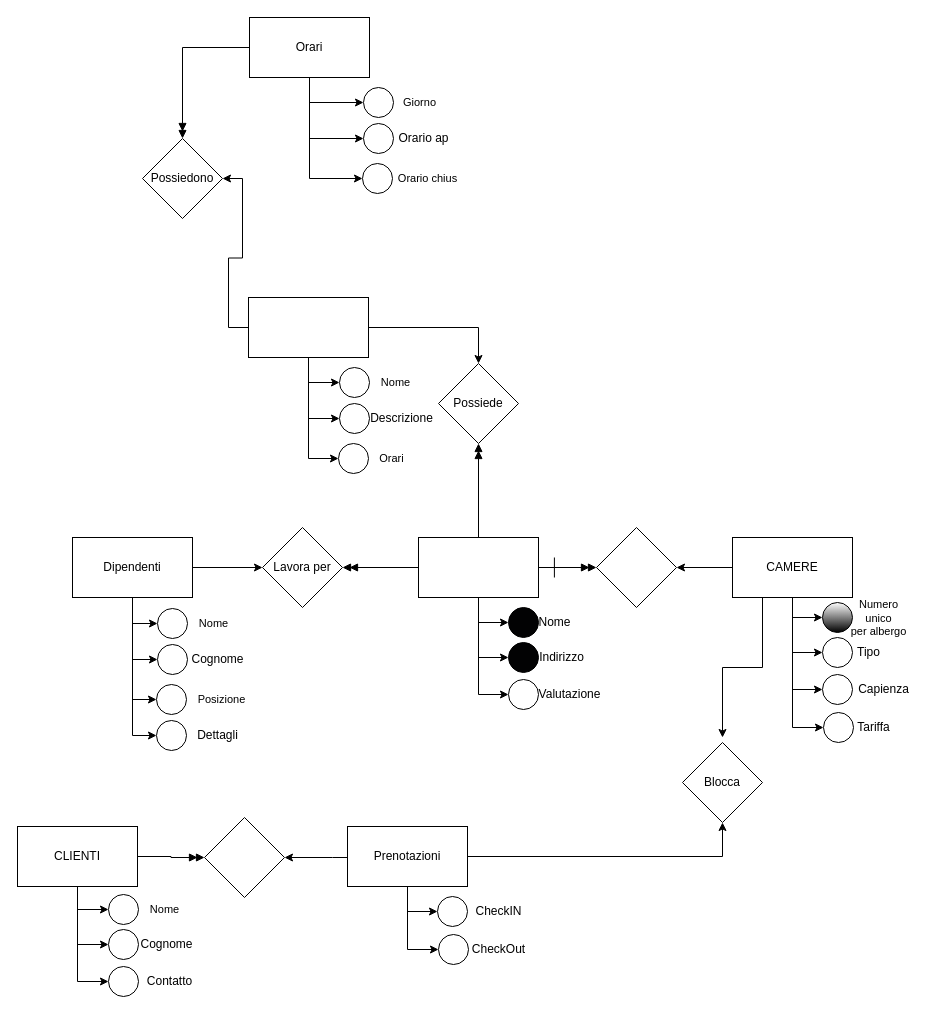
Some shapes in this 936 by 1014 pixel diagram are drawn without their labels. The shapes that lost their labels are listed below. From the top down, each one's centre as x and y in pixels, then its label:
the point at 308,327: FACILITIES
the point at 478,567: ALBERGHI
the point at 636,567: Contiene
the point at 244,857: Effettua
